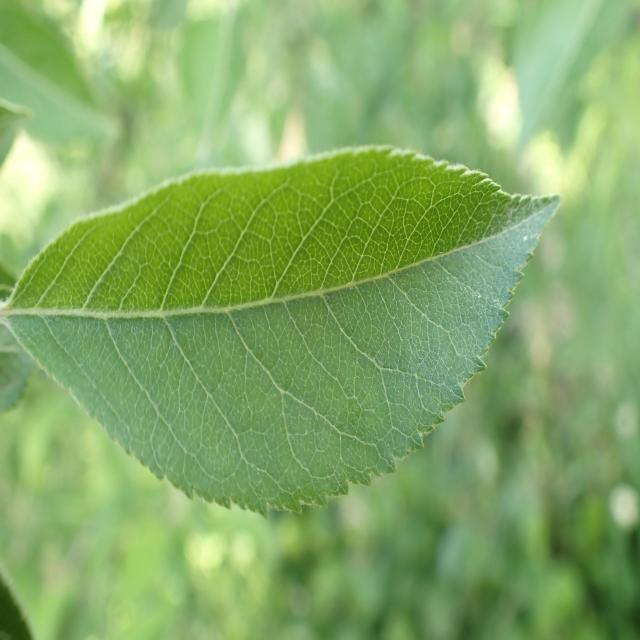healthy: (3, 145, 563, 519)
